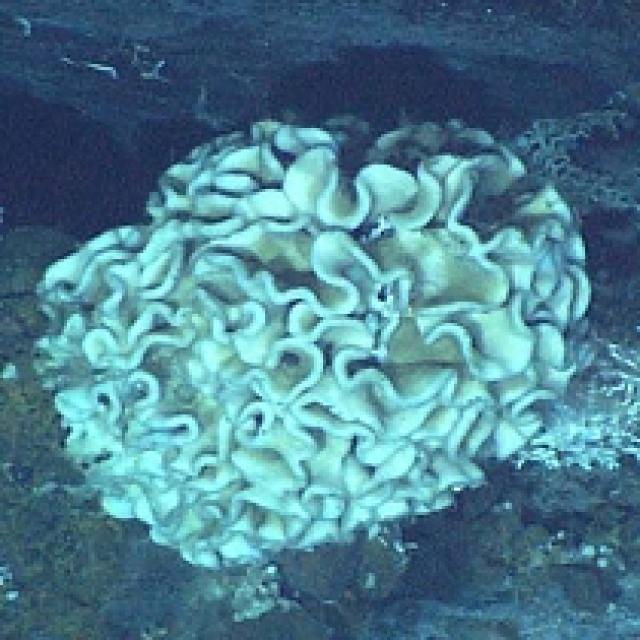Amoeba: (31, 113, 594, 576)
